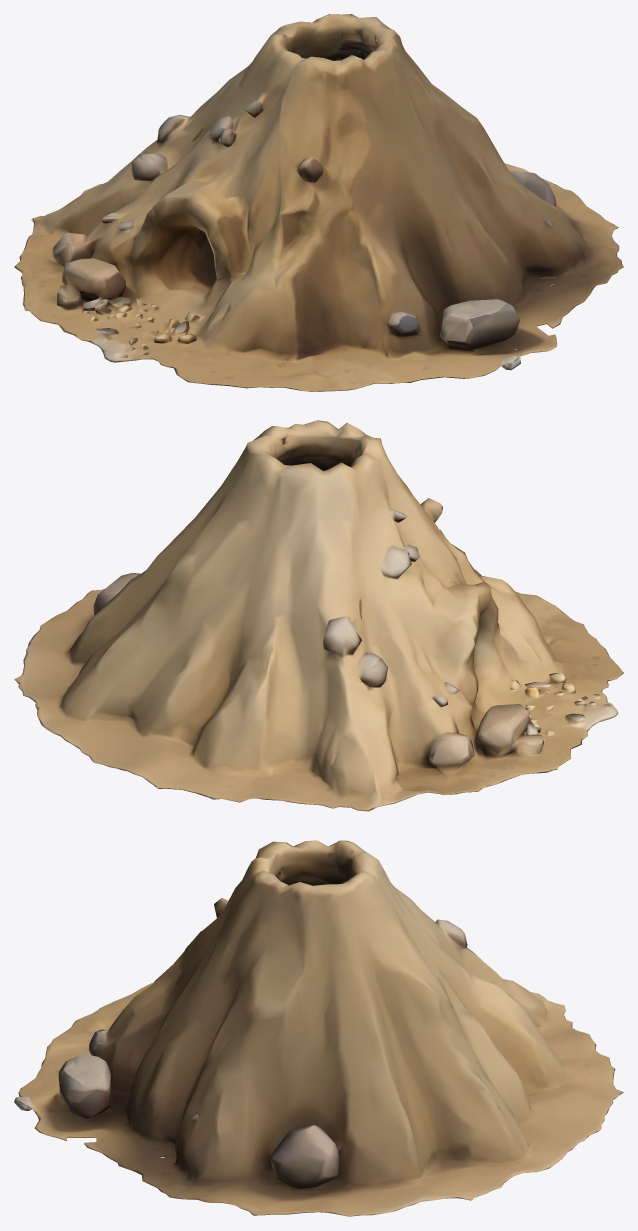
File: anthill_detail.glb
3 renders of one model, top to bottom at view 1: azimuth 30°, elevation 25°; view 2: azimuth 150°, elevation 25°; view 3: azimuth 270°, elevation 25°, orthographic.
Parts seen in each view (by area): view 1: tripo_node_53b2307b-f624-4556-8271-04215be38fb7; view 2: tripo_node_53b2307b-f624-4556-8271-04215be38fb7; view 3: tripo_node_53b2307b-f624-4556-8271-04215be38fb7.
Boxes of the visible parts, x1,y1,x2,y2 form: tripo_node_53b2307b-f624-4556-8271-04215be38fb7: [14, 14, 623, 391]; tripo_node_53b2307b-f624-4556-8271-04215be38fb7: [14, 420, 623, 811]; tripo_node_53b2307b-f624-4556-8271-04215be38fb7: [14, 840, 623, 1216].
Bounding box in the file's own units: 0.9836 × 0.4176 × 0.9796.
1 material, 1 textured.
